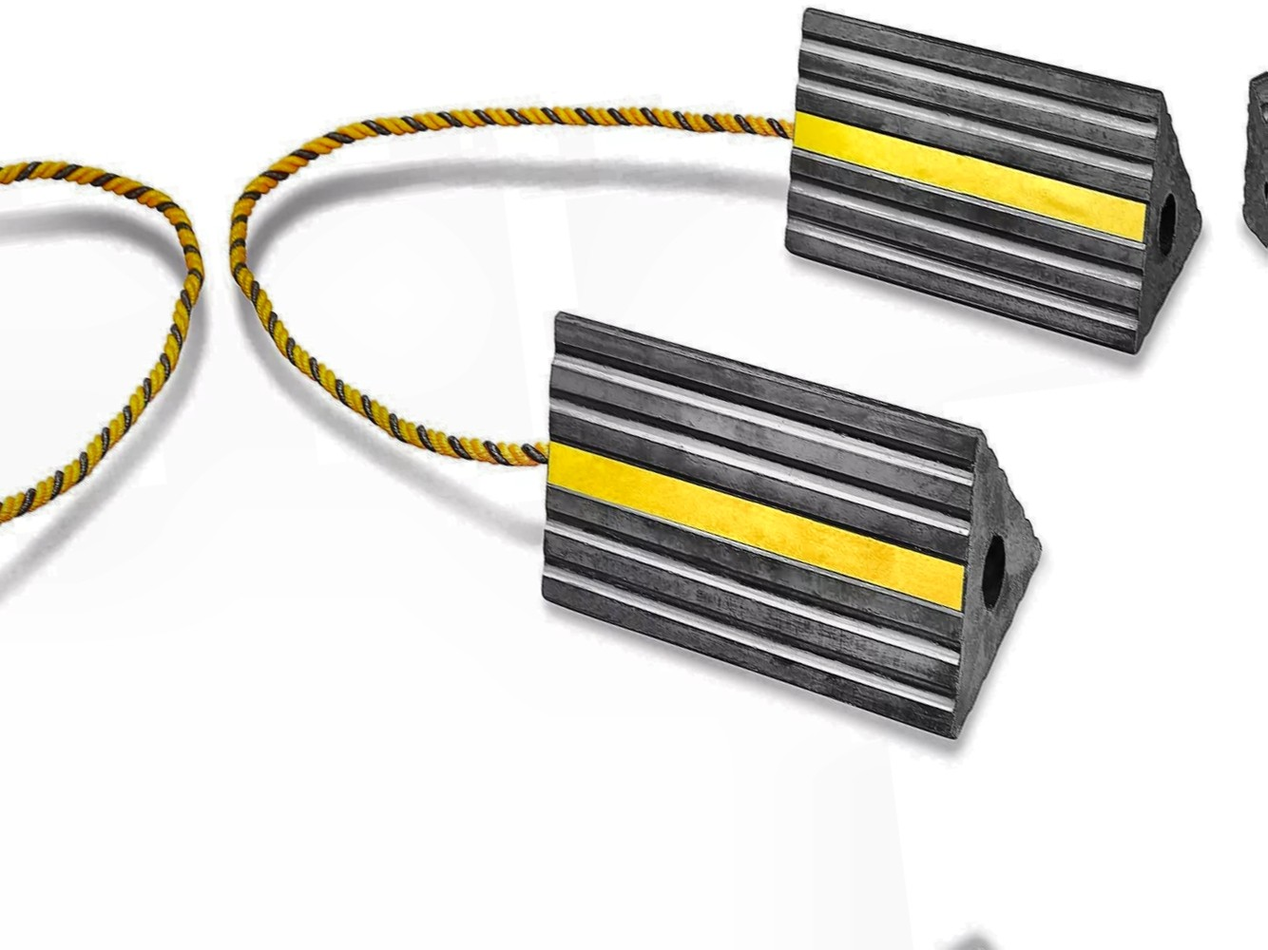chock: (506, 253, 1071, 795), (754, 0, 1221, 403)
